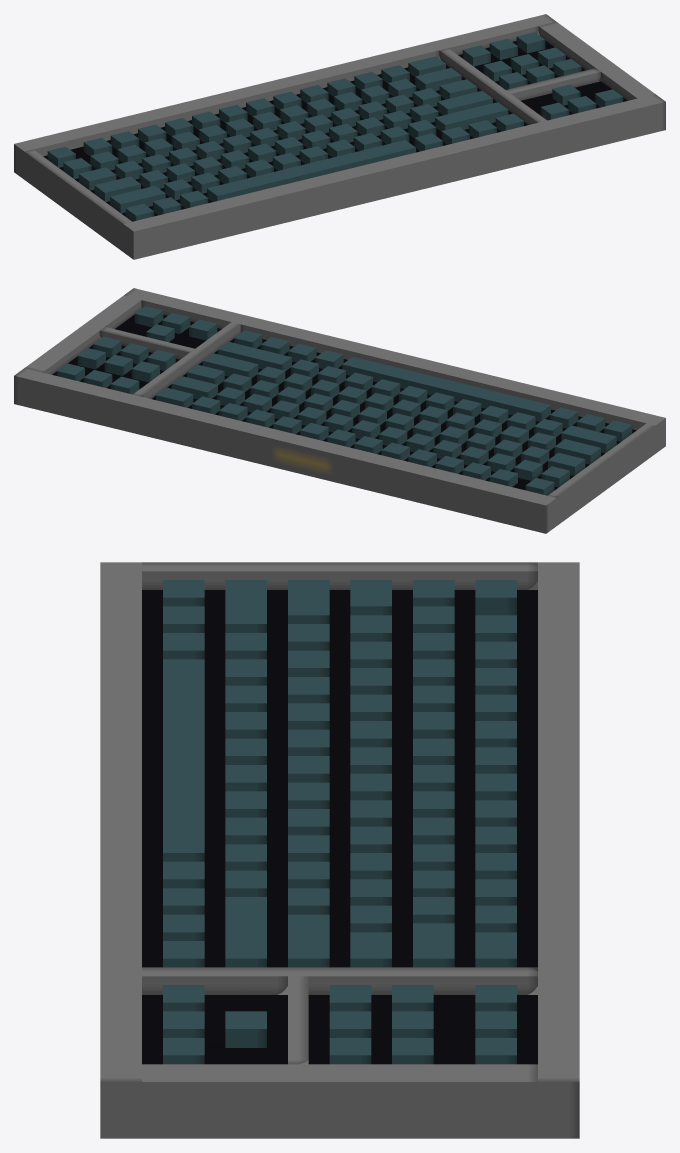
The model's file is KLAWIATURA.dae.
The picture shows the model from 3 angles, top to bottom: view 1: azimuth 30°, elevation 25°; view 2: azimuth 150°, elevation 25°; view 3: azimuth 270°, elevation 25°; orthographic projection. The views are drawn at different scales.
Visible parts, largest first — view 1: Content; view 2: Content; view 3: Content.
Boxes of the visible parts, left/top/right/bottom form: Content: left=14, top=14, right=665, bottom=259; Content: left=14, top=288, right=665, bottom=533; Content: left=100, top=562, right=579, bottom=1138.
Size of the model in its own units: 59 by 3 by 23.
Materials: 1 (1 with a texture image).
